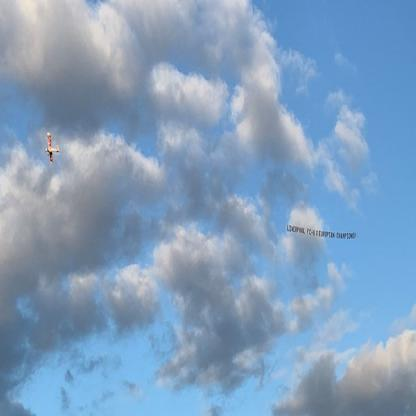CIV_Plane: (40, 128, 61, 166)
